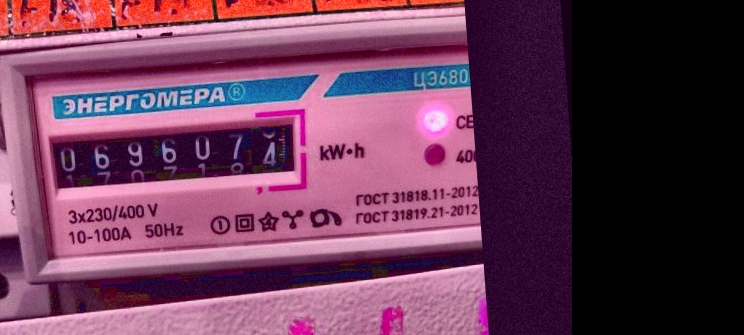0: (56, 144, 79, 173), (193, 131, 213, 161), (92, 142, 111, 169)
4: (259, 139, 278, 168)
6: (158, 134, 178, 165)
7: (226, 130, 246, 160)
9: (125, 138, 145, 167)
screen: (34, 104, 313, 208)
